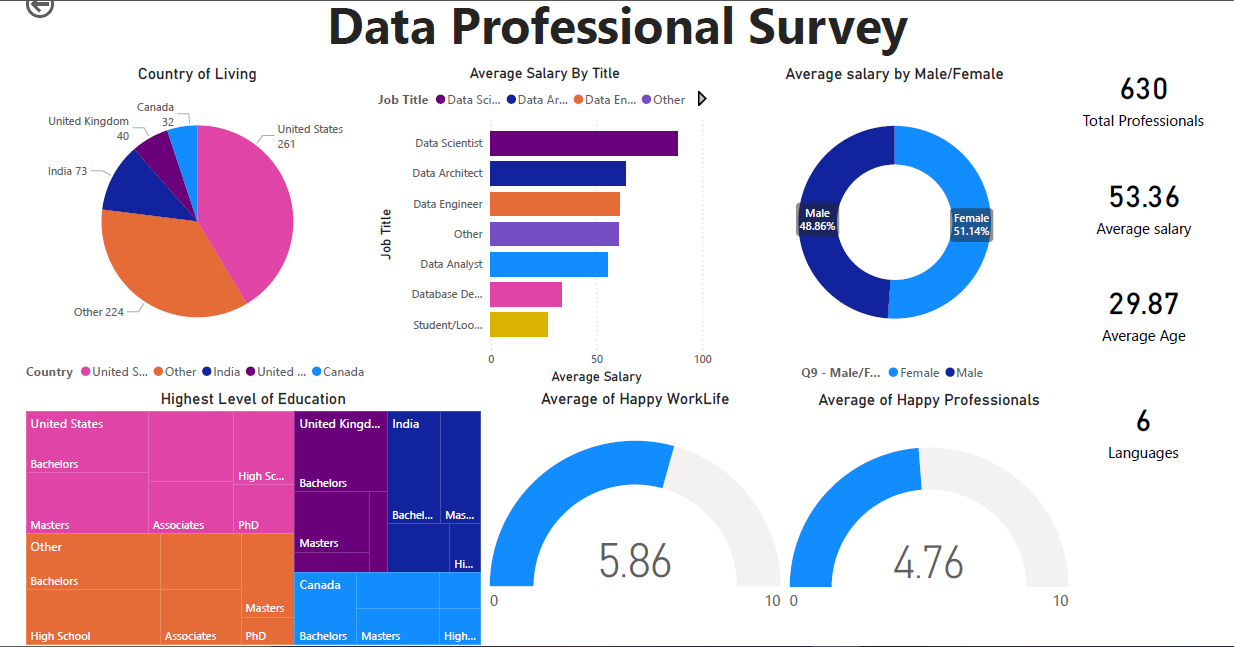

What the dashboard file says about the page in this screenshot:
{"tool":"powerbi","page":{"name":"Page 1","canvas":[1280,720],"ordinal":0},"visuals":[{"type":"textbox","box":[0,0,1280,86.2],"z":0},{"type":"card","fields":{"Values":["CountNonNull(Data Professional Survey.Unique ID)"]},"box":[1128.8,75,151.2,86.2],"z":1000},{"type":"card","fields":{"Values":["Avg(Data Professional Survey.Q10 - Current Age)"]},"box":[1130,307.5,150,82.5],"z":2000},{"type":"actionButton","box":[0,0,100,40],"z":3000},{"type":"gauge","title":"Average of Happy   Professionals","fields":{"Y":["Avg(Data Professional Survey.Q6 - How Happy are you in your Current Position with the following? (Upward Mobility))"],"MinValue":["Min(Data Professional Survey.Q6 - How Happy are you in your Current Position with the following? (Upward Mobility))1"],"MaxValue":["Max(Data Professional Survey.Q6 - How Happy are you in your Current Position with the following? (Upward Mobility))2"]},"box":[820,433.8,308.8,286.2],"z":4000},{"type":"card","fields":{"Values":["Count(Data Professional Survey.Q5 - Favorite Programming Language.1)"]},"box":[1128.8,432.5,151.2,83.8],"z":5000},{"type":"card","fields":{"Values":["Avg(Data Professional Survey.Average salary)"]},"box":[1130,193.8,150,81.2],"z":6000},{"type":"barChart","title":"Average Salary By Title","fields":{"Category":["Data Professional Survey.Q1 - Which Title Best Fits your Current Role?.1"],"Y":["Avg(Data Professional Survey.Average salary)"],"Series":["Data Professional Survey.Q1 - Which Title Best Fits your Current Role?.1"]},"box":[377.5,83.8,368.8,348.8],"z":7000},{"type":"pieChart","title":"Country of Living","fields":{"Category":["Data Professional Survey.Q11 - Which Country do you live in?.1"],"Y":["CountNonNull(Data Professional Survey.Q11 - Which Country do you live in?.1)"]},"box":[0,83.8,377.5,348.8],"z":8000},{"type":"donutChart","title":"Average salary by  Male/Female","fields":{"Y":["Avg(Data Professional Survey.Average salary)"],"Category":["Data Professional Survey.Q9 - Male/Female?"]},"box":[746.2,85,382.5,348.8],"z":9000},{"type":"gauge","title":"Average of Happy   WorkLife","fields":{"Y":["Avg(Data Professional Survey.Q6 - How Happy are you in your Current Position with the following? (Coworkers))"],"MinValue":["Min(Data Professional Survey.Q6 - How Happy are you in your Current Position with the following? (Coworkers))1"],"MaxValue":["Max(Data Professional Survey.Q6 - How Happy are you in your Current Position with the following? (Coworkers))2"]},"box":[497.5,432.5,322.5,280],"z":10000},{"type":"treemap","title":"Highest Level of Education","fields":{"Group":["Data Professional Survey.Q11 - Which Country do you live in?.1"],"Values":["Count(Data Professional Survey.Q5 - Favorite Programming Language.1)"],"Details":["Data Professional Survey.Q12 - Highest Level of Education"]},"box":[0,432.5,497.5,280],"z":11000}]}

Visuals, with their boxes in screenshot pixels (x1, y1, x2, y2):
textbox: box=[161, 35, 1233, 109]
card - CountNonNull(Data Professional Survey.Unique ID): box=[1124, 99, 1233, 173]
card - Avg(Data Professional Survey.Q10 - Current Age): box=[1125, 298, 1233, 368]
actionButton: box=[161, 35, 246, 69]
"Average of Happy   Professionals" gauge: box=[860, 406, 1124, 646]
card - Count(Data Professional Survey.Q5 - Favorite Programming Language.1): box=[1124, 404, 1233, 476]
card - Avg(Data Professional Survey.Average salary): box=[1125, 201, 1233, 270]
"Average Salary By Title" barChart: box=[483, 107, 798, 405]
"Country of Living" pieChart: box=[161, 107, 483, 405]
"Average salary by  Male/Female" donutChart: box=[797, 108, 1124, 406]
"Average of Happy   WorkLife" gauge: box=[585, 404, 860, 643]
"Highest Level of Education" treemap: box=[161, 404, 585, 643]
